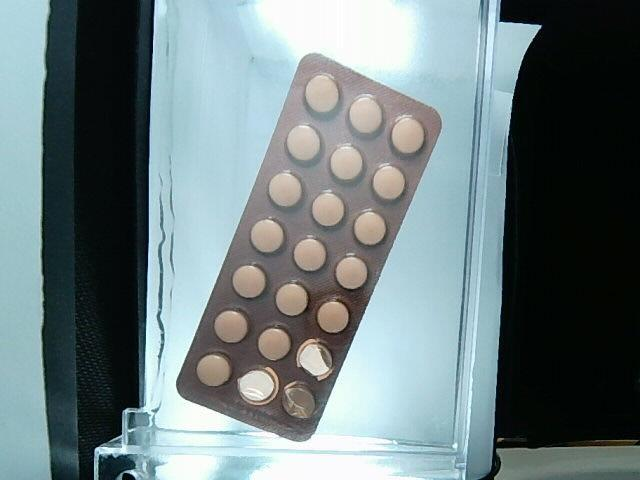Light Front: (178, 54, 441, 440)
No Pill Front: (296, 339, 333, 380), (238, 368, 279, 404), (283, 383, 315, 418)
Pill Front: (304, 73, 341, 116), (286, 125, 323, 164), (349, 94, 382, 135), (329, 144, 364, 182), (268, 171, 304, 207), (391, 116, 424, 154), (250, 219, 285, 253), (311, 190, 344, 226), (231, 265, 266, 298), (214, 310, 249, 343), (373, 165, 405, 200), (196, 354, 231, 386), (258, 328, 291, 361), (354, 211, 386, 245), (294, 238, 326, 272), (335, 256, 367, 289), (276, 284, 308, 315), (318, 301, 349, 332)
